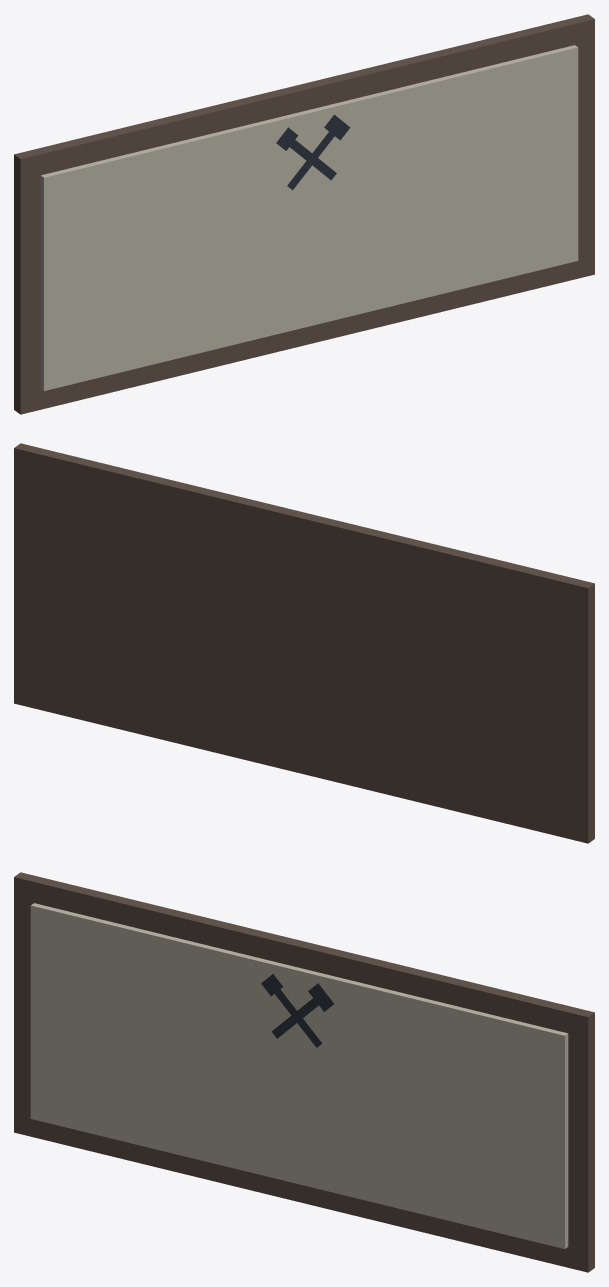
Rendered from aviso.glb.
3 renders of one model, top to bottom at view 1: azimuth 30°, elevation 25°; view 2: azimuth 150°, elevation 25°; view 3: azimuth 330°, elevation 25°, orthographic.
Parts seen in each view (by area): view 1: Aviso_190x75; view 2: Aviso_190x75; view 3: Aviso_190x75.
Boxes of the visible parts, bbox=[...] form: Aviso_190x75: bbox=[14, 14, 594, 414]; Aviso_190x75: bbox=[14, 443, 594, 843]; Aviso_190x75: bbox=[14, 872, 594, 1272].
Size of the model in its own units: 2 by 0.85 by 0.0685.
